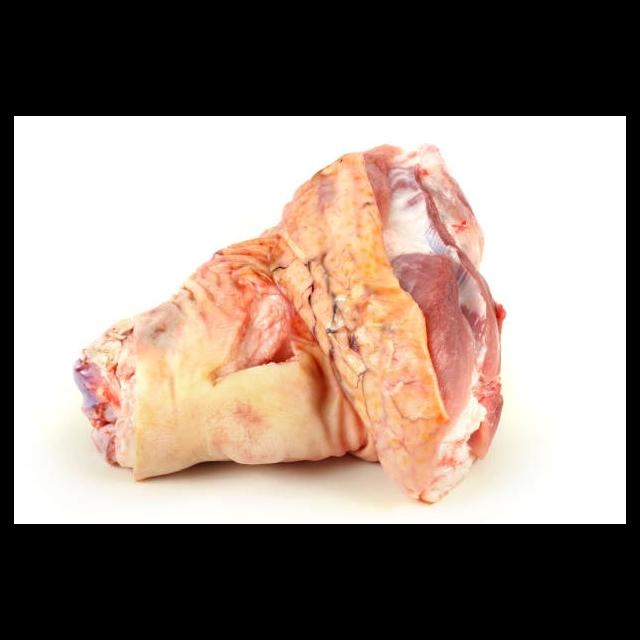chicken: (71, 143, 508, 509)
